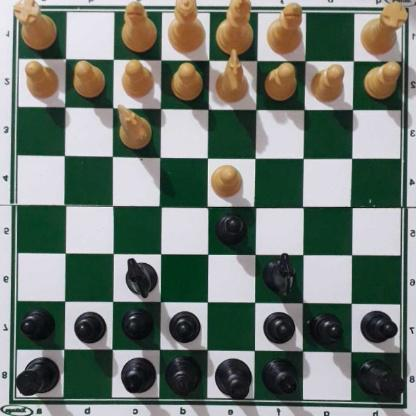black-bishop: (259, 361, 300, 400), (119, 360, 155, 397)
black-king: (212, 358, 253, 399)
black-knight: (262, 256, 296, 301), (124, 261, 156, 300)
black-pawn: (360, 311, 396, 347), (215, 214, 249, 250), (262, 313, 296, 348), (311, 314, 343, 349), (168, 311, 199, 347), (73, 312, 104, 347), (20, 312, 53, 344), (121, 310, 152, 344)
black-queen: (164, 361, 202, 400)
black-rook: (12, 358, 59, 400), (358, 361, 401, 406)
white-bishop: (120, 0, 159, 52), (265, 5, 302, 55)
white-king: (215, 2, 253, 58)
white-knight: (214, 49, 250, 105), (115, 107, 151, 153)
white-pawn: (309, 66, 346, 106), (363, 64, 400, 103), (22, 62, 58, 102), (264, 65, 298, 103), (120, 61, 154, 99), (169, 64, 202, 102), (71, 64, 104, 101), (209, 166, 242, 200)
white-queen: (166, 1, 205, 55)
white-rook: (361, 3, 405, 60), (15, 0, 54, 56)
